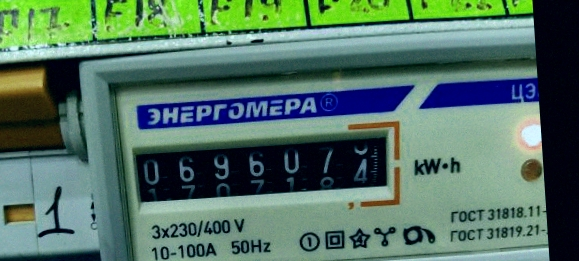0: (139, 155, 162, 186), (281, 144, 302, 175)
4: (349, 155, 369, 185)
6: (245, 147, 267, 179), (175, 152, 196, 183)
7: (316, 141, 336, 173)
9: (210, 150, 232, 180)
screen: (119, 113, 408, 223)
